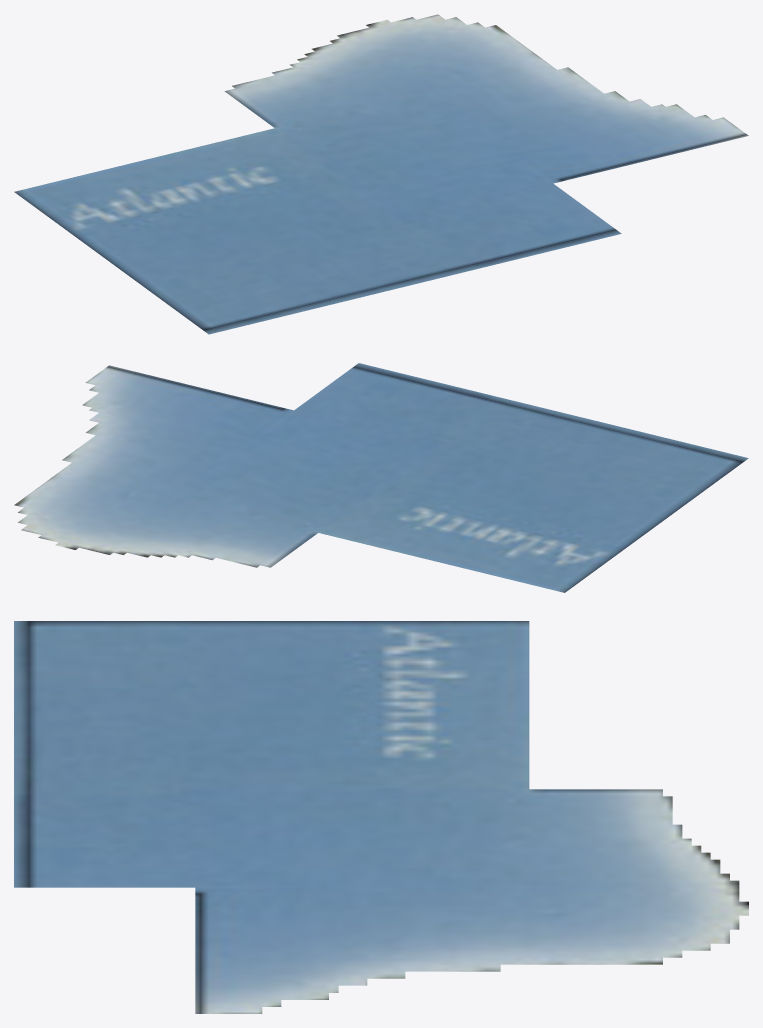
Rendered from belgian-congo-sea.gltf.
3 renders of one model, top to bottom at view 1: azimuth 30°, elevation 25°; view 2: azimuth 150°, elevation 25°; view 3: azimuth 270°, elevation 25°, orthographic. The views are drawn at different scales.
Visible parts, largest first — view 1: Plane; view 2: Plane; view 3: Plane.
Part boxes in pixels (x1,y1,x2,y2): Plane: (14,14,748,334); Plane: (14,363,748,592); Plane: (14,621,748,1013).
Bounding box in the file's own units: 0.5529 × 0 × 0.4373.
Materials: 1 (1 with a texture image).
